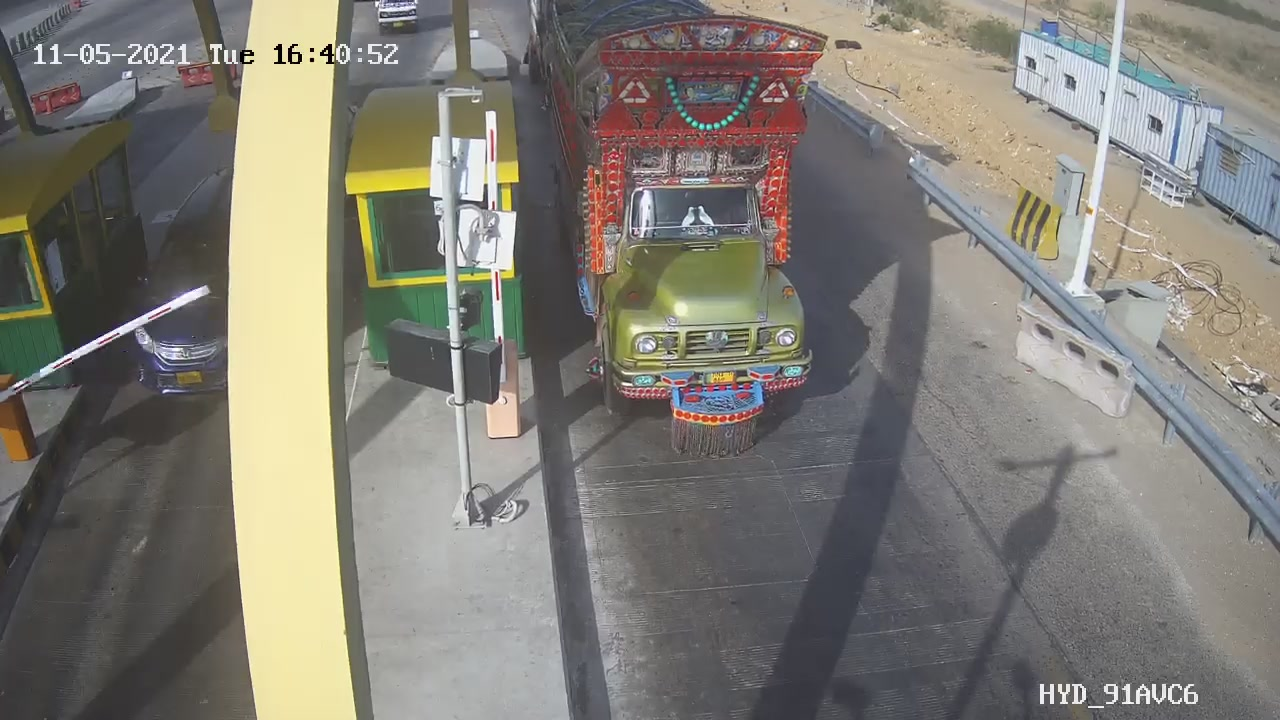F5: (520, 1, 866, 481)
